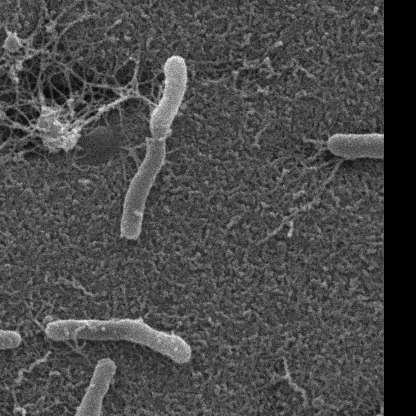cell2cell: (71, 335, 101, 364)
cell2surface: (94, 79, 162, 108)
filament: (121, 56, 186, 239), (46, 317, 194, 360), (0, 323, 22, 371)
regular: (44, 362, 114, 416), (331, 134, 384, 157)
